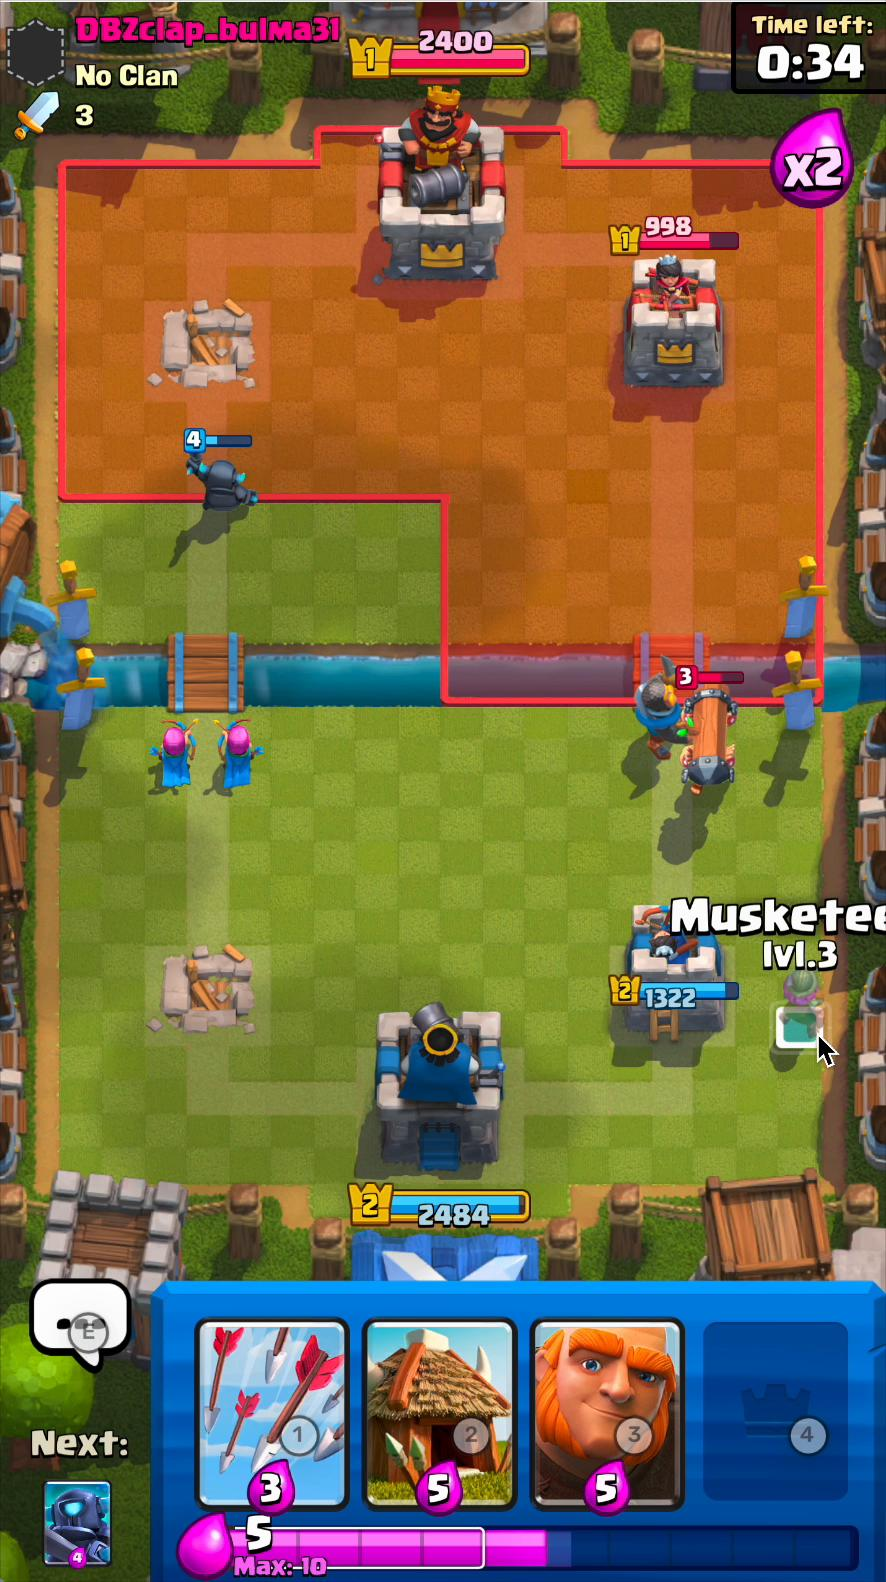archere: (203, 718, 263, 799), (152, 715, 198, 796)
chevalier: (627, 654, 690, 758)
mini_PEKKA: (174, 424, 258, 518)
